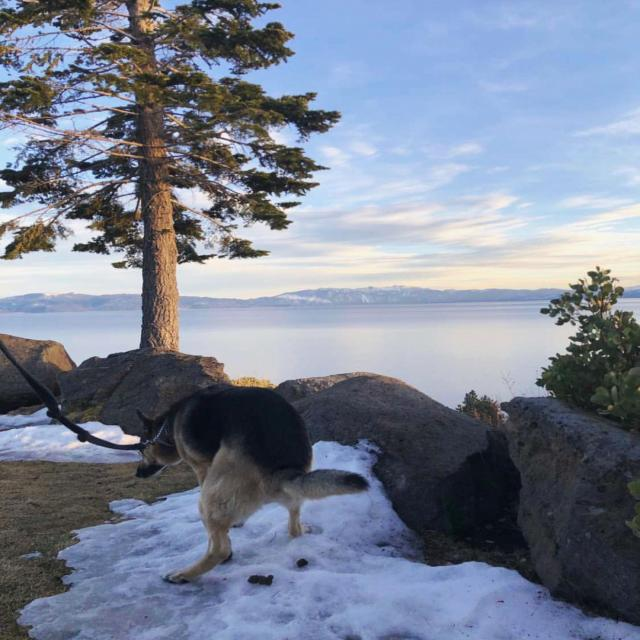squatting: (123, 380, 378, 585)
